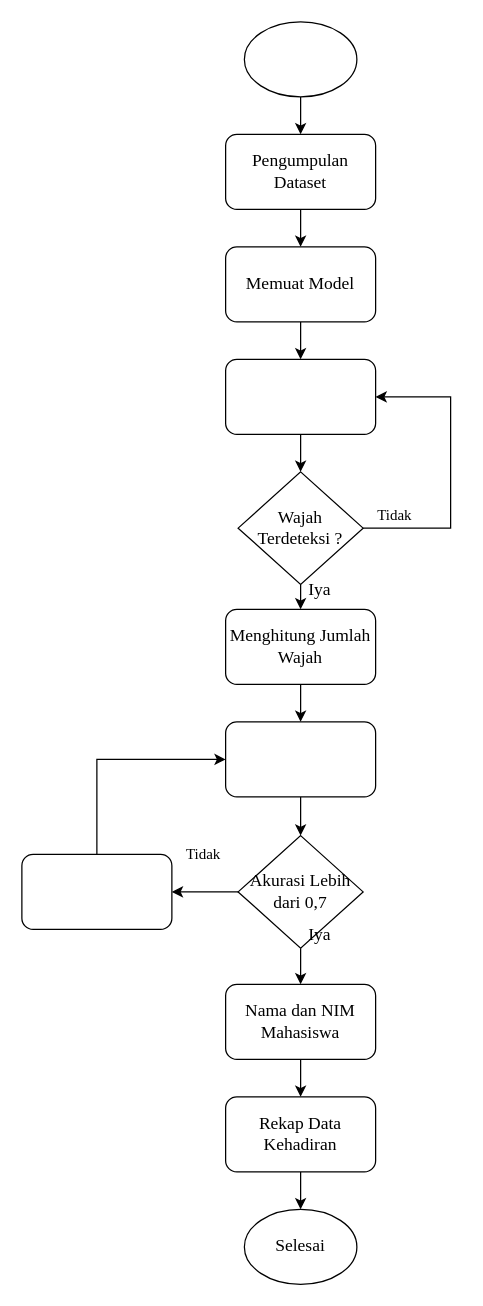
This 483x1306 diagram has some shape labels left out. Here are the shapes that lost their labels. From the top down, the centre of each, then its label:
[300,59]: Mulai
[300,396]: Deteksi Wajah (YOLO)
[300,759]: Pengenalan Wajah (MobileNetV2)
[96,891]: Menampilkan Pesan "Tidak Dikenali"
